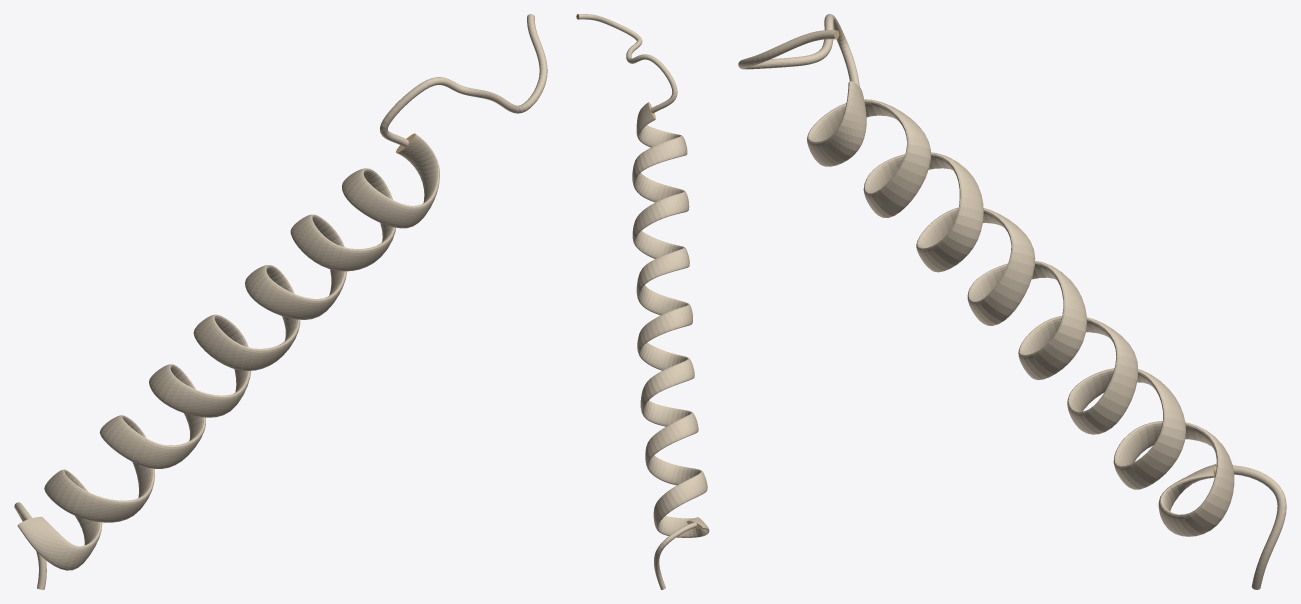
Rendered from rCoilrCoilSheet.dae.
The picture shows the model from 3 angles, left to right: view 1: azimuth 30°, elevation 25°; view 2: azimuth 150°, elevation 25°; view 3: azimuth 270°, elevation 25°; orthographic projection. The views are drawn at different scales.
Parts seen in each view (by area): view 1: Shape_IndexedTriangleStripSet_035; view 2: Shape_IndexedTriangleStripSet_035; view 3: Shape_IndexedTriangleStripSet_035.
Part boxes in pixels (bbox=[...]): Shape_IndexedTriangleStripSet_035: bbox=[14, 14, 547, 589]; Shape_IndexedTriangleStripSet_035: bbox=[576, 14, 709, 589]; Shape_IndexedTriangleStripSet_035: bbox=[738, 14, 1286, 589].
Size of the model in its own units: 25.34 by 29.76 by 43.74.
